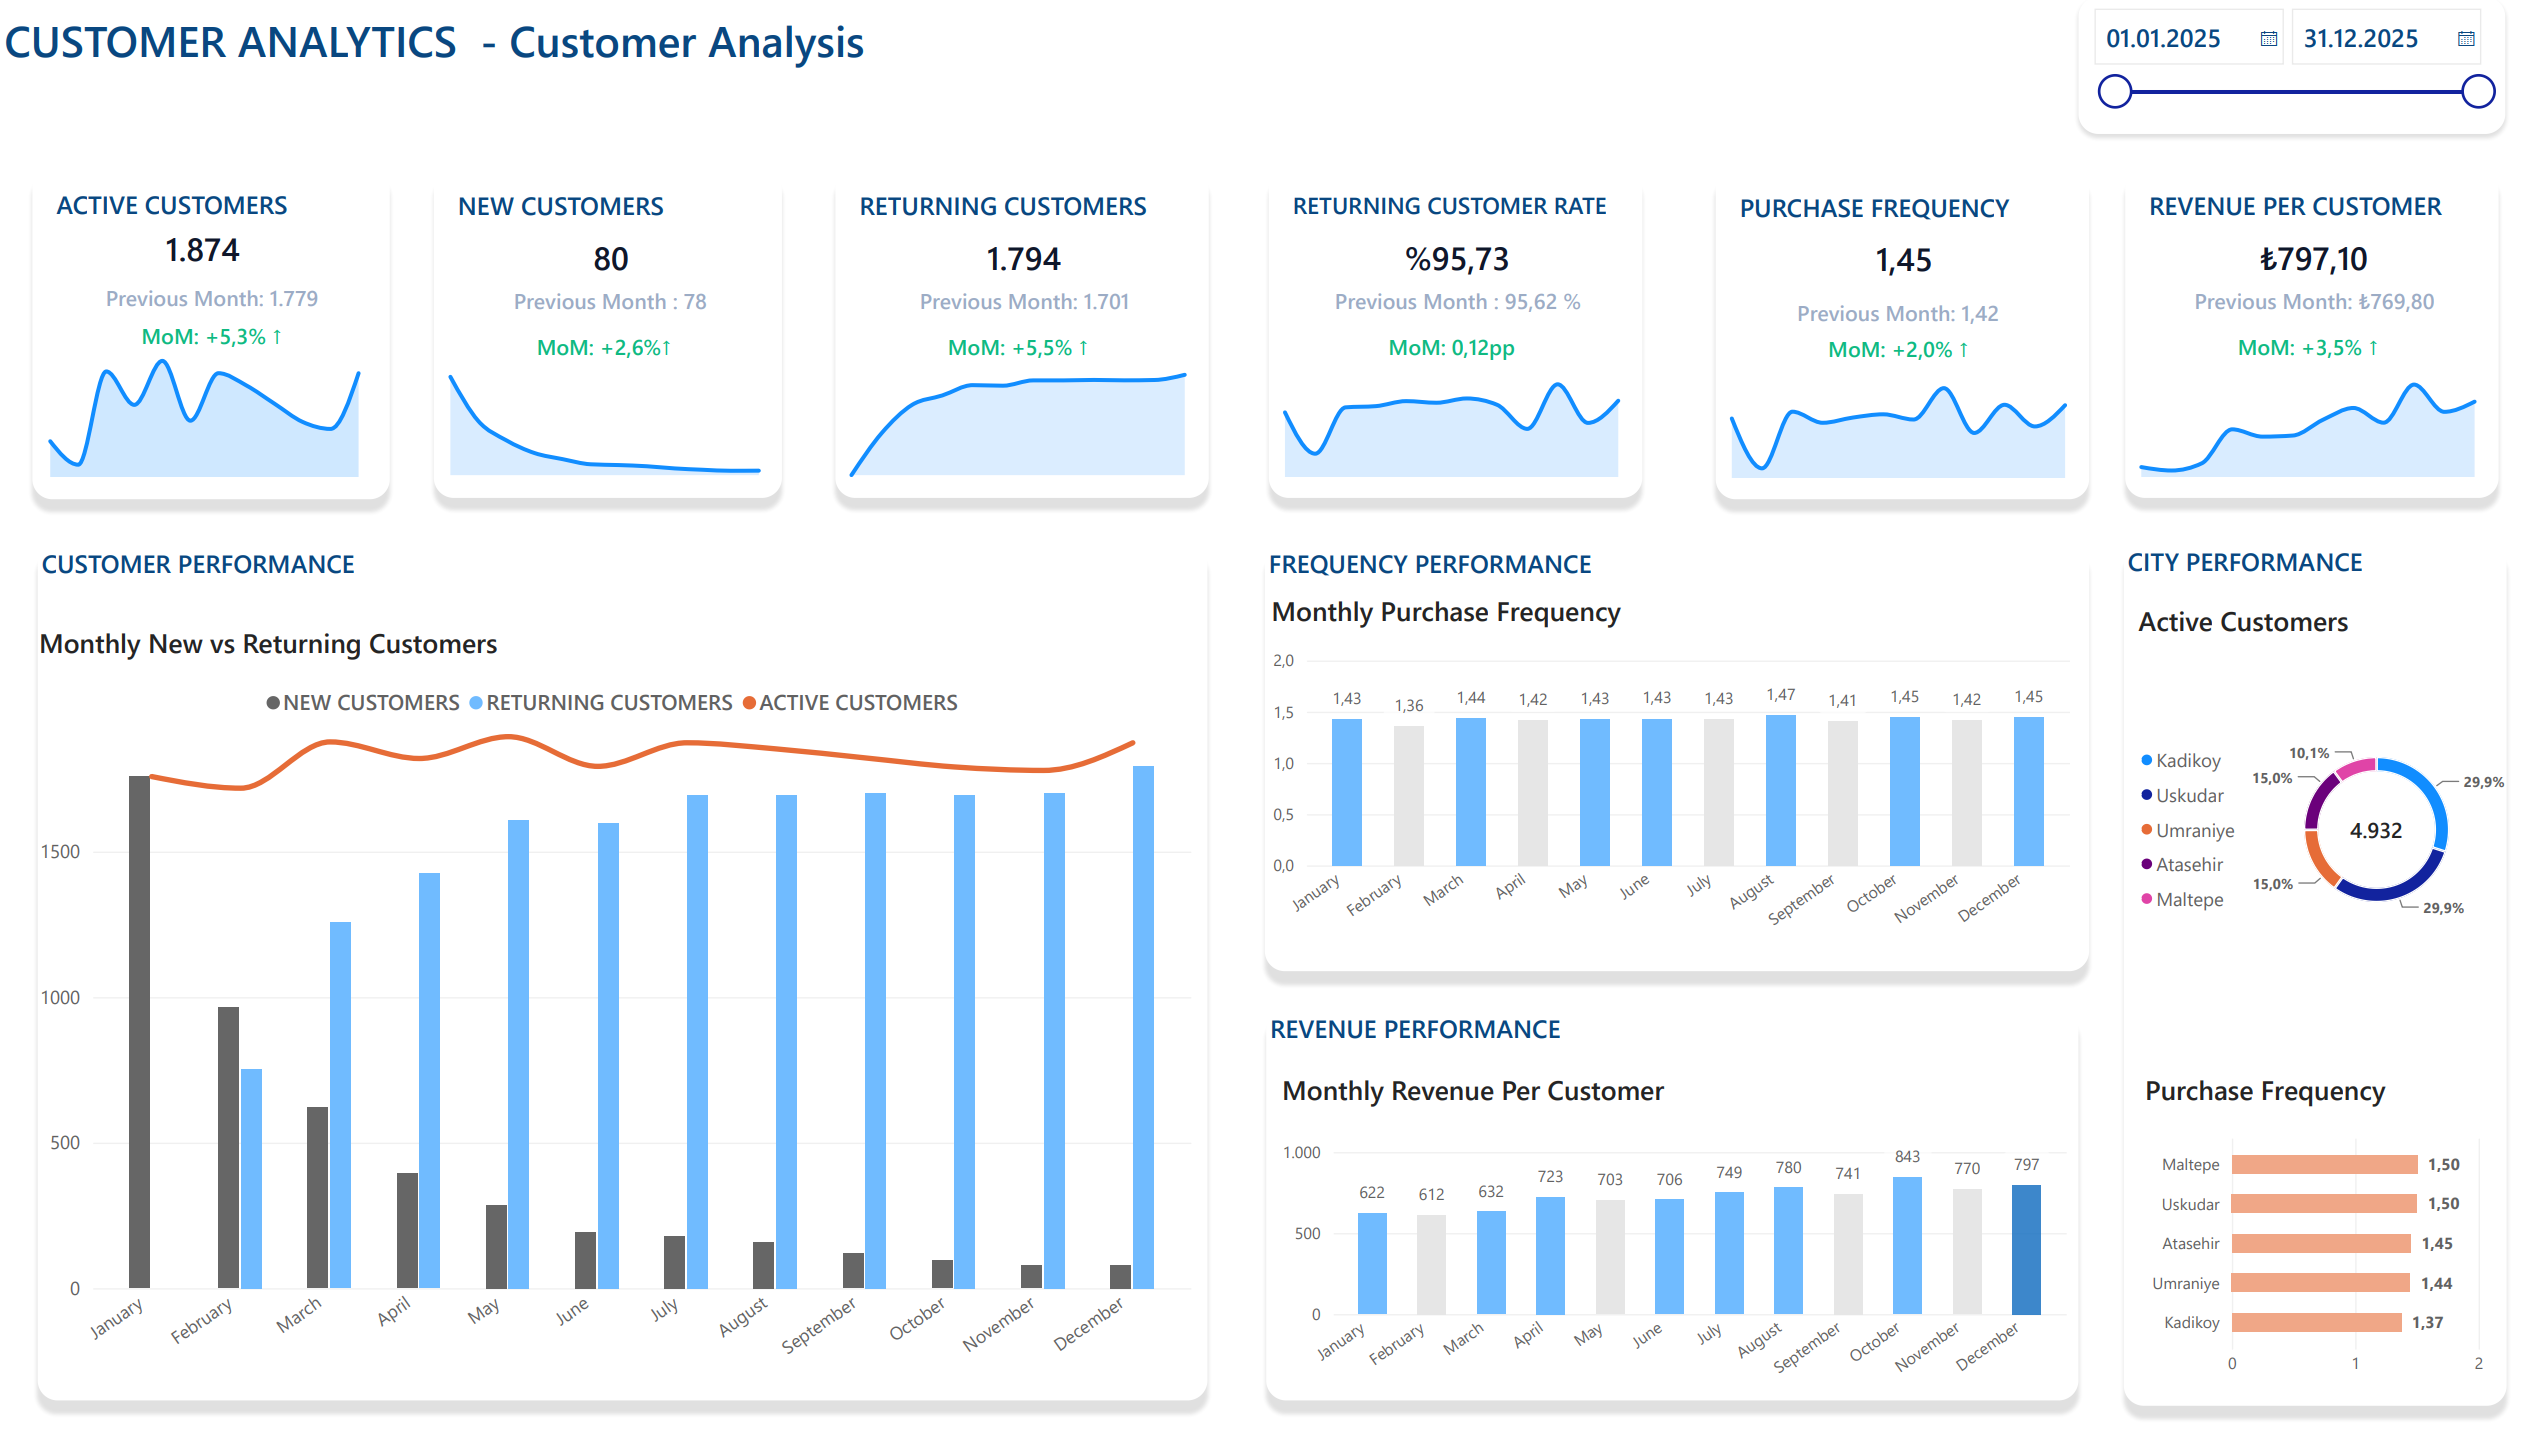

This screenshot's page, from the dashboard's own definition file:
{"tool":"powerbi","page":{"name":"Customer","canvas":[1920,1080],"ordinal":2},"visuals":[{"type":"group","id":"g1","title":"Active Costumer","box":[19.5,123.8,282.4,252.8],"z":0},{"type":"card","title":"ACTIVE CUSTOMERS","fields":{"Values":["Date.sum_renevue"]},"box":[31.8,126.6,268.3,250],"z":0,"group":"g1"},{"type":"card","title":"NEW CUSTOMERS","fields":{"Values":["Date.sum_renevue"]},"box":[331.9,128.2,261,248.2],"z":0,"group":"g3"},{"type":"card","title":"RETURNING CUSTOMERS","fields":{"Values":["Date.sum_renevue"]},"box":[632.8,128.2,279.6,248.2],"z":0,"group":"g2"},{"type":"card","title":"RETURNING CUSTOMER RATE","fields":{"Values":["Date.sum_renevue"]},"box":[957.8,128.2,279.6,248.2],"z":0,"group":"g4"},{"type":"card","title":"REVENUE PER CUSTOMER","fields":{"Values":["Date.sum_renevue"]},"box":[1599.5,128.2,279.6,248.2],"z":0,"group":"g6"},{"type":"card","title":"PURCHASE FREQUENCY","fields":{"Values":["Date.sum_renevue"]},"box":[1292.8,128.9,279.6,248.2],"z":0,"group":"g5"},{"type":"textbox","box":[1598.9,408,286.5,648.9],"z":0,"group":"g10"},{"type":"textbox","box":[35.2,408.9,877.5,644.4],"z":0,"group":"g7"},{"type":"textbox","box":[955.1,408.9,617.7,322.2],"z":0,"group":"g8"},{"type":"textbox","box":[955.6,757.8,608.8,295.1],"z":0,"group":"g9"},{"type":"lineClusteredColumnComboChart","title":"Monthly Revenue Per Customer","fields":{"Category":["Date.Month Name EN"],"Y":["Query-customer.Revenue per Customer"]},"box":[952,792,619.8,274.8],"z":500,"group":"g9"},{"type":"group","id":"g2","title":"Returning customer","box":[620,126,300,250],"z":1000},{"type":"stackedAreaChart","fields":{"Category":["Date.Date.Varyasyon.Tarih Hiyerarşisi.Ay"],"Y":["Query.total active costumer"]},"box":[20,248,280,128],"z":1000,"group":"g1"},{"type":"stackedAreaChart","fields":{"Category":["Date.Date.Varyasyon.Tarih Hiyerarşisi.Ay"],"Y":["Query-customer.New Customers"]},"box":[320,252.5,280.1,123.9],"z":1000,"group":"g3"},{"type":"stackedAreaChart","fields":{"Category":["Date.Date.Varyasyon.Tarih Hiyerarşisi.Ay"],"Y":["Query-customer.Returning Customers"]},"box":[620,252.5,300.1,123.9],"z":1000,"group":"g2"},{"type":"stackedAreaChart","fields":{"Category":["Date.Date.Varyasyon.Tarih Hiyerarşisi.Ay"],"Y":["Query-customer.Returning customer rate"]},"box":[945,252.5,300.1,123.9],"z":1000,"group":"g4"},{"type":"stackedAreaChart","fields":{"Category":["Date.Date.Varyasyon.Tarih Hiyerarşisi.Ay"],"Y":["Query-customer.Customer Lifetime Value"]},"box":[1586.7,252.5,300.1,123.9],"z":1000,"group":"g6"},{"type":"stackedAreaChart","fields":{"Category":["Date.Date.Varyasyon.Tarih Hiyerarşisi.Ay"],"Y":["Query-customer.Purchase Frequency"]},"box":[1280,253.2,300.1,123.9],"z":1000,"group":"g5"},{"type":"clusteredBarChart","title":"Purchase Frequency","fields":{"Category":["public costumer.city"],"Y":["Query-customer.Latest Month Purchase Frequency"]},"box":[1599,792,286,262],"z":1000,"group":"g10"},{"type":"slicer","title":"Date","fields":{"Values":["Date.Date"]},"box":[1565,0,320,103.3],"z":2000},{"type":"card","title":"OVERALL PERFORMANCE","fields":{"Values":["Query-customer.Latest Month Active Customers"]},"box":[19.5,123.8,279.8,134.8],"z":2000,"group":"g1"},{"type":"card","title":"OVERALL PERFORMANCE","fields":{"Values":["Query-customer.Latest Month New Customers"]},"box":[329.7,126,269.8,143.3],"z":2000,"group":"g3"},{"type":"card","title":"OVERALL PERFORMANCE","fields":{"Values":["Query-customer.Latest Month Returning Customers"]},"box":[630.4,126,289.1,143.3],"z":2000,"group":"g2"},{"type":"card","title":"OVERALL PERFORMANCE","fields":{"Values":["Query-customer.Latest Month Returning Customer Rate"]},"box":[955.4,126,289.1,143.3],"z":2000,"group":"g4"},{"type":"card","title":"OVERALL PERFORMANCE","fields":{"Values":["Query-customer.Latest Month Revenue per Customer"]},"box":[1597.1,126,289.1,143.3],"z":2000,"group":"g6"},{"type":"card","title":"OVERALL PERFORMANCE","fields":{"Values":["Query-customer.Latest Month Purchase Frequency"]},"box":[1290.4,126.7,289.1,143.3],"z":2000,"group":"g5"},{"type":"donutChart","title":"Active Customers","fields":{"Category":["public costumer.city"],"Y":["Query-customer.Total Active Customers"]},"box":[1594,440,307,328],"z":2000,"group":"g10"},{"type":"textbox","box":[10,10,802,54],"z":3000},{"type":"card","title":"TARGET","fields":{"Values":["Query-customer.New Costumer MoM Label"]},"box":[327.3,226.5,265.4,80],"z":3000,"group":"g3"},{"type":"card","title":"TARGET","fields":{"Values":["Query-customer.Returning Costumer MoM Label"]},"box":[627.8,226.5,284.4,80],"z":3000,"group":"g2"},{"type":"card","title":"TARGET","fields":{"Values":["Query-customer.Returning Rate Change pp"]},"box":[952.8,226.5,284.4,80],"z":3000,"group":"g4"},{"type":"card","title":"TARGET","fields":{"Values":["Query-customer.Revenue per Customer MoM Label"]},"box":[1594.5,226.5,284.4,80],"z":3000,"group":"g6"},{"type":"card","title":"TARGET","fields":{"Values":["Query-customer.Purchase Frequency MoM %"]},"box":[1287.8,227.2,284.4,80],"z":3000,"group":"g5"},{"type":"group","id":"g3","title":"New customer","box":[320,126,280,250],"z":4000},{"type":"card","title":"TARGET","fields":{"Values":["Query-customer.previous customer Target Label"]},"box":[331.2,184.3,266.9,95],"z":4000,"group":"g3"},{"type":"card","title":"TARGET","fields":{"Values":["Query-customer.previous month returning customer Label"]},"box":[632,184.3,285.9,95],"z":4000,"group":"g2"},{"type":"card","title":"TARGET","fields":{"Values":["Query-customer.previous month returning customer rate Label"]},"box":[957,184.3,285.9,95],"z":4000,"group":"g4"},{"type":"card","title":"TARGET","fields":{"Values":["Query-customer.previous month revenue per customer Label"]},"box":[1598.7,184.3,285.9,95],"z":4000,"group":"g6"},{"type":"card","title":"TARGET","fields":{"Values":["Query-customer.previous month purchase frequency Label"]},"box":[1287.2,192.3,285.9,95],"z":4000,"group":"g5"},{"type":"card","title":"TARGET","fields":{"Values":["Query.Costumer MoM Label"]},"box":[30.6,224.8,271.3,64.8],"z":4000,"group":"g1"},{"type":"lineClusteredColumnComboChart","title":"Monthly Purchase Frequency","fields":{"Category":["Date.Month Name EN"],"Y":["Query-customer.Purchase Frequency"]},"box":[944.4,432.2,630.4,298.2],"z":4000,"group":"g8"},{"type":"lineClusteredColumnComboChart","title":"Monthly New vs Returning Customers","fields":{"Category":["Date.Month Name EN"],"Y":["Query-customer.New Customers","Query-customer.Returning Customers"],"Y2":["Query-customer.Total Active Customers"]},"box":[20,455.5,895.5,596.3],"z":4000,"group":"g7"},{"type":"group","id":"g4","title":"Returning customer rate","box":[945,126,300,250],"z":5000},{"type":"card","title":"TARGET","fields":{"Values":["Query-customer.previous month neactivew customer Label"]},"box":[31.4,183.5,269.6,90.4],"z":5000,"group":"g1"},{"type":"group","id":"g5","title":"Purchase Frequency","box":[1280,126.7,300,250],"z":6000},{"type":"group","id":"g6","title":"Revenue per Customer","box":[1586.7,126,300,250],"z":7000},{"type":"group","id":"g7","title":"Sales Platform","box":[20,408.9,893.3,644.4],"z":8000},{"type":"group","id":"g8","title":"Sales Platform","box":[944.4,408.9,628.9,322.2],"z":9000},{"type":"group","id":"g9","title":"Sales Platform","box":[952,757.8,619.8,309],"z":10000},{"type":"group","id":"g10","title":"Category Performance","box":[1594,408,307,648.9],"z":11000}]}

Visuals, with their boxes in screenshot pixels (x1, y1, x2, y2), scaled from the page's 1920x1080 canvas onto the 2544x1434 screenshot:
"Active Costumer" group: [26, 164, 400, 500]
"ACTIVE CUSTOMERS" card: [42, 168, 398, 500]
"NEW CUSTOMERS" card: [440, 170, 786, 500]
"RETURNING CUSTOMERS" card: [838, 170, 1209, 500]
"RETURNING CUSTOMER RATE" card: [1269, 170, 1640, 500]
"REVENUE PER CUSTOMER" card: [2119, 170, 2490, 500]
"PURCHASE FREQUENCY" card: [1713, 171, 2083, 501]
textbox: [2119, 542, 2498, 1403]
textbox: [47, 543, 1209, 1399]
textbox: [1266, 543, 2084, 971]
textbox: [1266, 1006, 2073, 1398]
"Monthly Revenue Per Customer" lineClusteredColumnComboChart: [1261, 1052, 2083, 1416]
"Returning customer" group: [822, 167, 1219, 499]
stackedAreaChart - Date.Date.Varyasyon.Tarih Hiyerarşisi.Ay x Query.total active costumer: [26, 329, 398, 499]
stackedAreaChart - Date.Date.Varyasyon.Tarih Hiyerarşisi.Ay x Query-customer.New Customers: [424, 335, 795, 500]
stackedAreaChart - Date.Date.Varyasyon.Tarih Hiyerarşisi.Ay x Query-customer.Returning Customers: [822, 335, 1219, 500]
stackedAreaChart - Date.Date.Varyasyon.Tarih Hiyerarşisi.Ay x Query-customer.Returning customer rate: [1252, 335, 1650, 500]
stackedAreaChart - Date.Date.Varyasyon.Tarih Hiyerarşisi.Ay x Query-customer.Customer Lifetime Value: [2102, 335, 2500, 500]
stackedAreaChart - Date.Date.Varyasyon.Tarih Hiyerarşisi.Ay x Query-customer.Purchase Frequency: [1696, 336, 2094, 501]
"Purchase Frequency" clusteredBarChart: [2119, 1052, 2498, 1399]
"Date" slicer: [2074, 0, 2498, 137]
"OVERALL PERFORMANCE" card: [26, 164, 397, 343]
"OVERALL PERFORMANCE" card: [437, 167, 794, 358]
"OVERALL PERFORMANCE" card: [835, 167, 1218, 358]
"OVERALL PERFORMANCE" card: [1266, 167, 1649, 358]
"OVERALL PERFORMANCE" card: [2116, 167, 2499, 358]
"OVERALL PERFORMANCE" card: [1710, 168, 2093, 358]
"Active Customers" donutChart: [2112, 584, 2519, 1020]
textbox: [13, 13, 1076, 85]
"TARGET" card: [434, 301, 785, 407]
"TARGET" card: [832, 301, 1209, 407]
"TARGET" card: [1262, 301, 1639, 407]
"TARGET" card: [2113, 301, 2490, 407]
"TARGET" card: [1706, 302, 2083, 408]
"New customer" group: [424, 167, 795, 499]
"TARGET" card: [439, 245, 792, 371]
"TARGET" card: [837, 245, 1216, 371]
"TARGET" card: [1268, 245, 1647, 371]
"TARGET" card: [2118, 245, 2497, 371]
"TARGET" card: [1706, 255, 2084, 381]
"TARGET" card: [41, 298, 400, 385]
"Monthly Purchase Frequency" lineClusteredColumnComboChart: [1251, 574, 2087, 970]
"Monthly New vs Returning Customers" lineClusteredColumnComboChart: [26, 605, 1213, 1397]
"Returning customer rate" group: [1252, 167, 1650, 499]
"TARGET" card: [42, 244, 399, 364]
"Purchase Frequency" group: [1696, 168, 2094, 500]
"Revenue per Customer" group: [2102, 167, 2500, 499]
"Sales Platform" group: [26, 543, 1210, 1399]
"Sales Platform" group: [1251, 543, 2085, 971]
"Sales Platform" group: [1261, 1006, 2083, 1416]
"Category Performance" group: [2112, 542, 2519, 1403]
